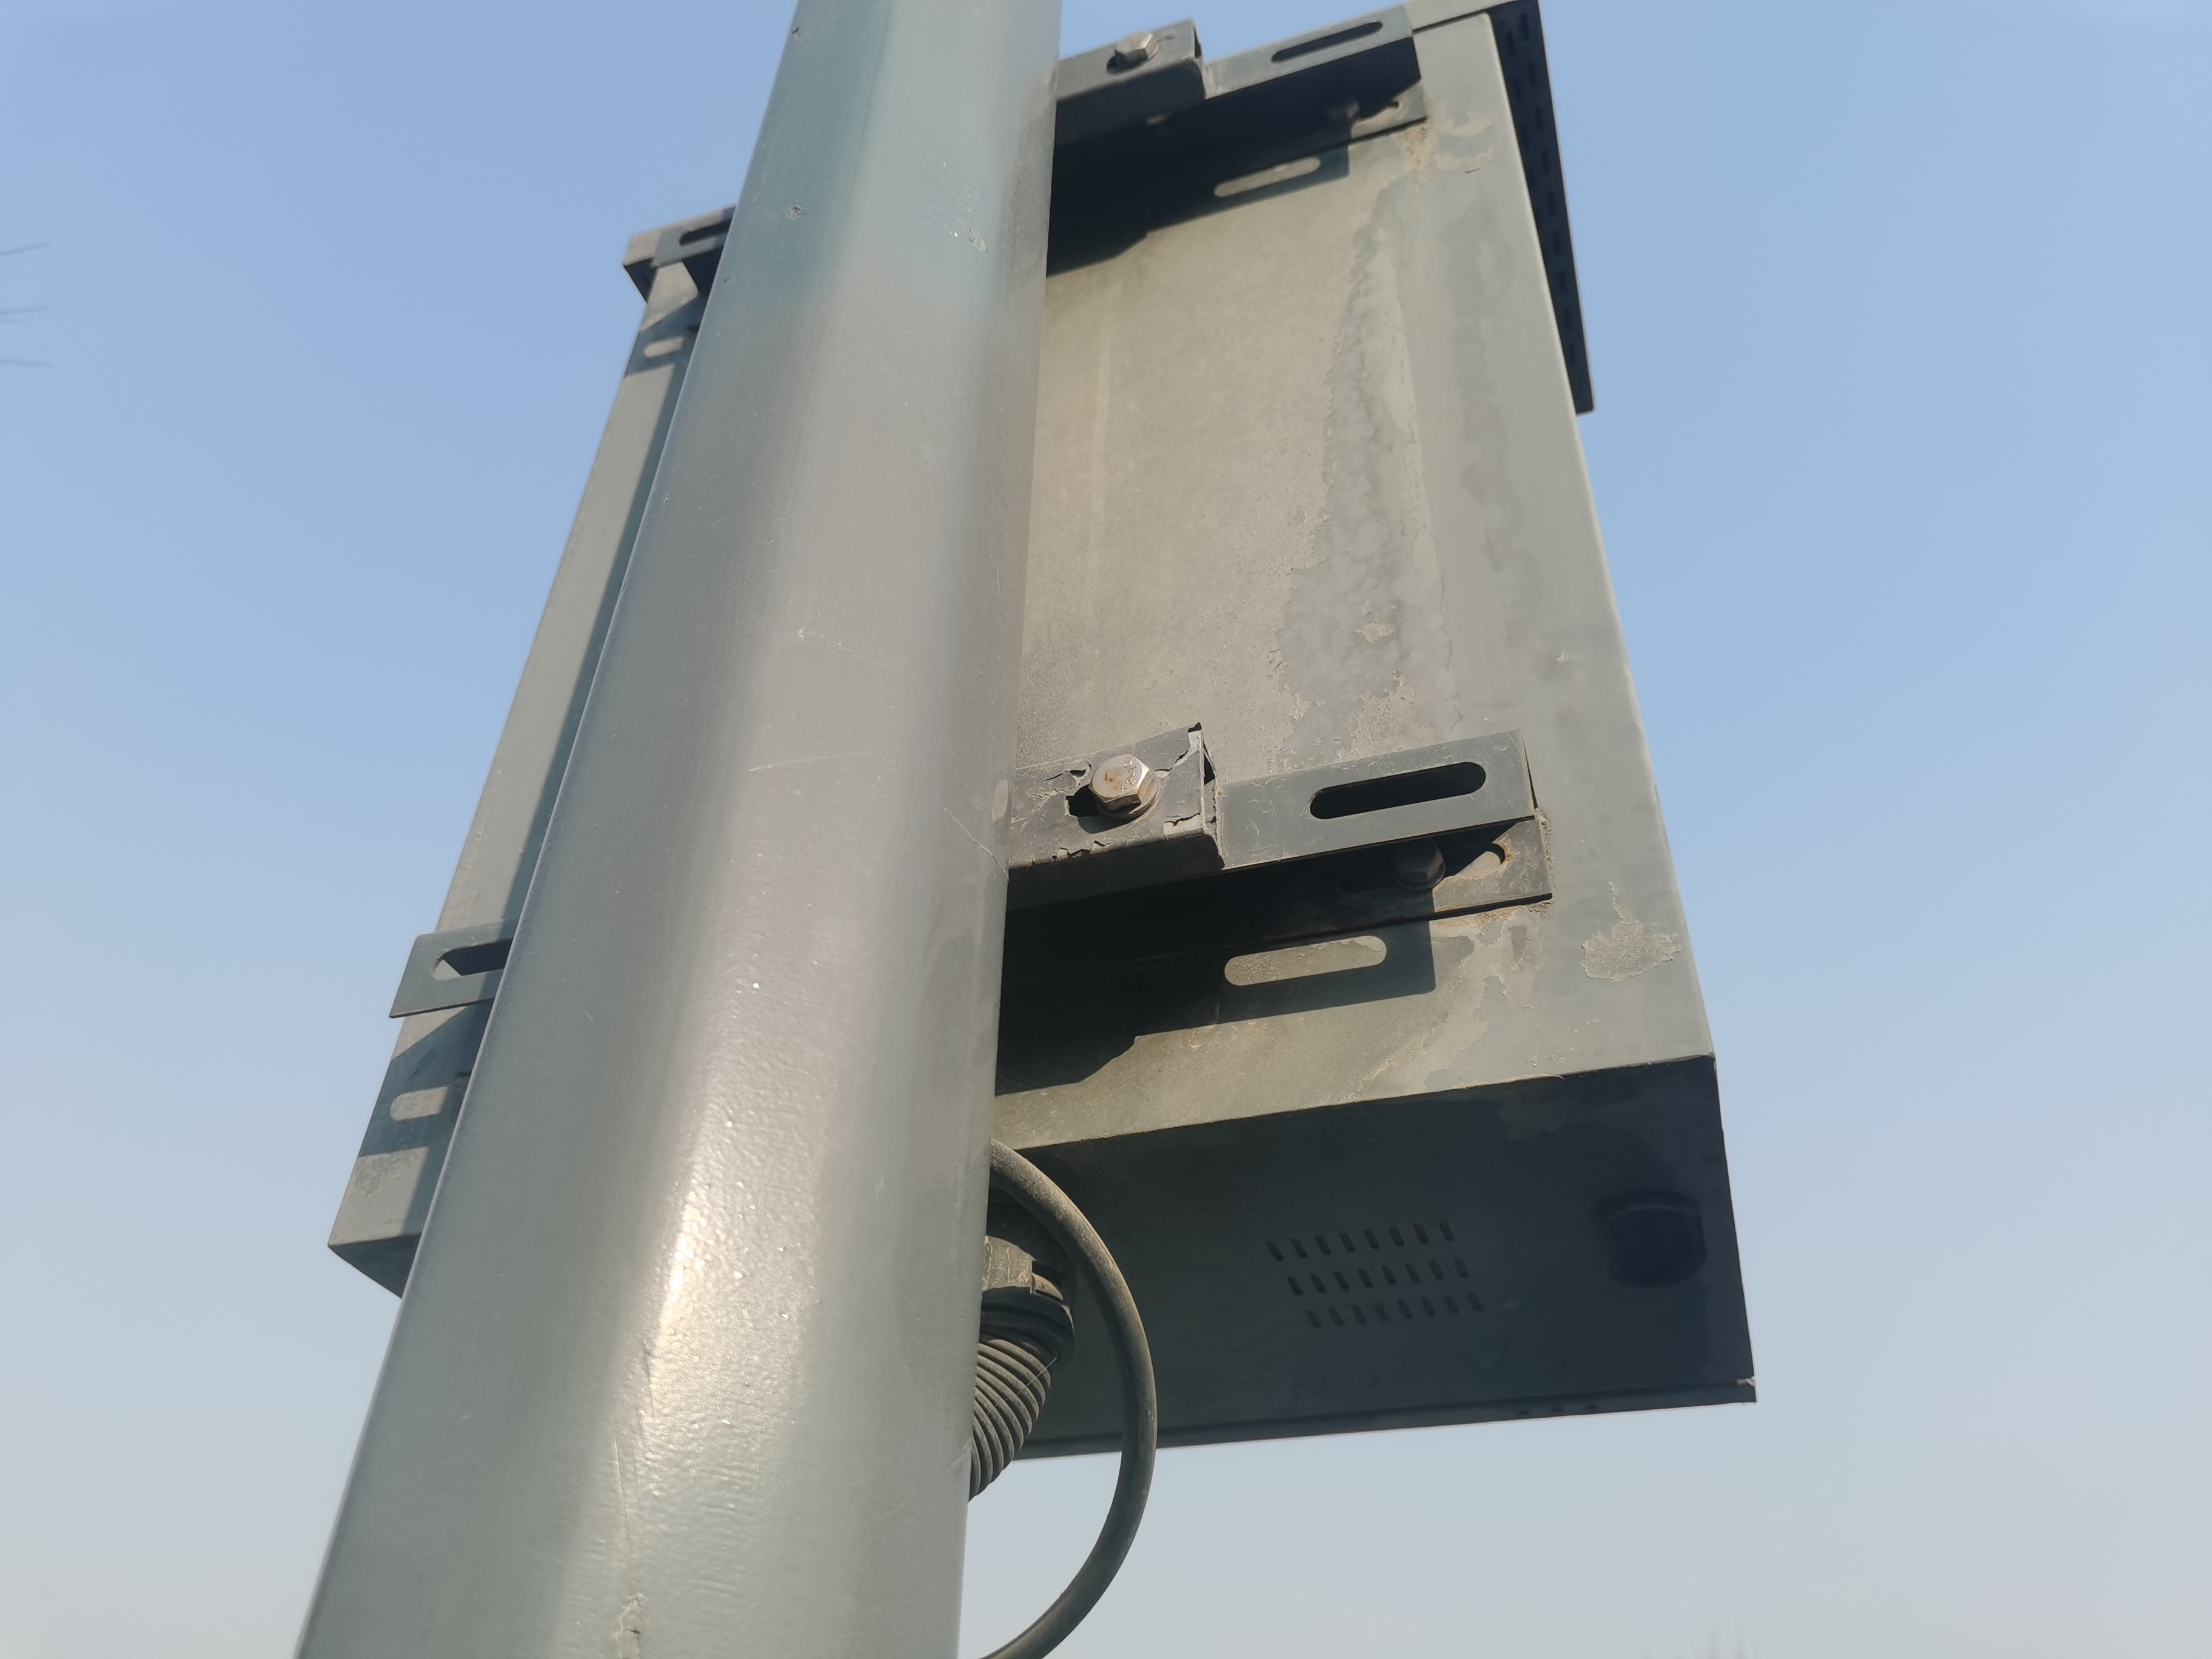bolt_a: (1083, 751, 1158, 816)
vague: (1390, 828, 1446, 885), (1109, 30, 1163, 70)
